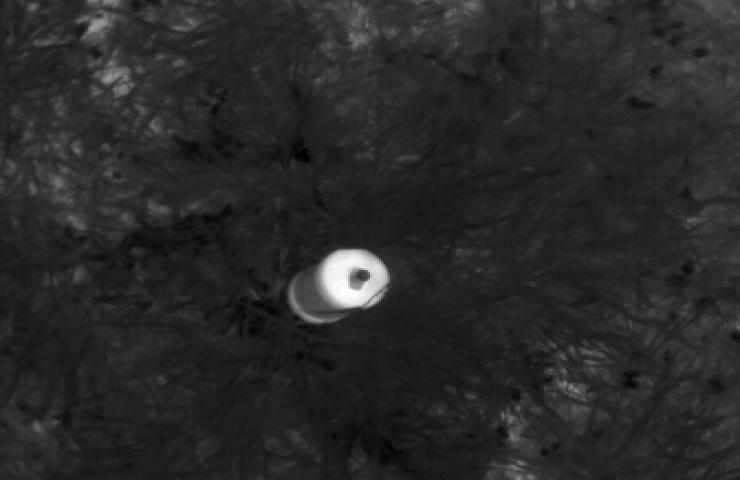landmines: (284, 244, 396, 332)
